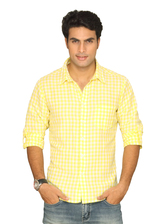clothoes: (21, 56, 148, 203)
